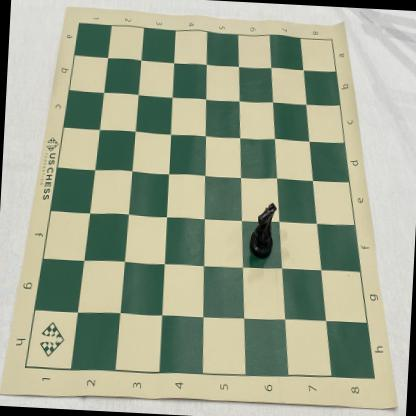knight: (247, 200, 276, 260)
